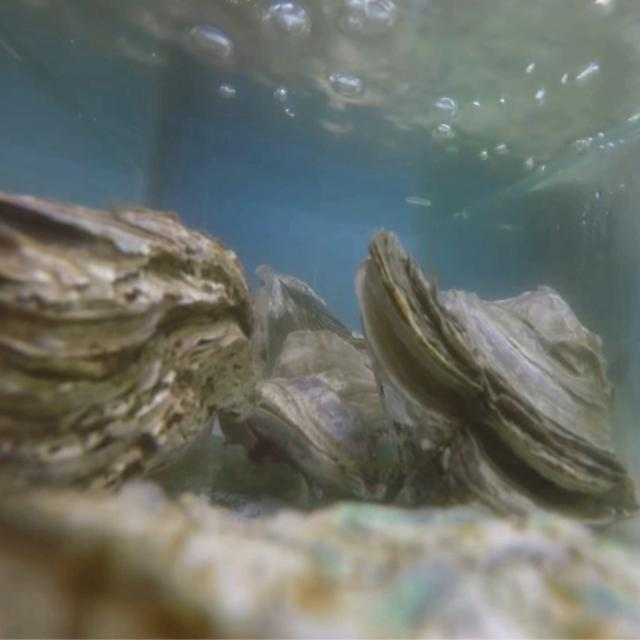Oyster-Closed: (0, 193, 257, 520), (250, 332, 417, 508)
Oyster-Indeterminate: (0, 482, 640, 640), (254, 261, 370, 377)
Oyster-Open: (354, 228, 640, 540)
